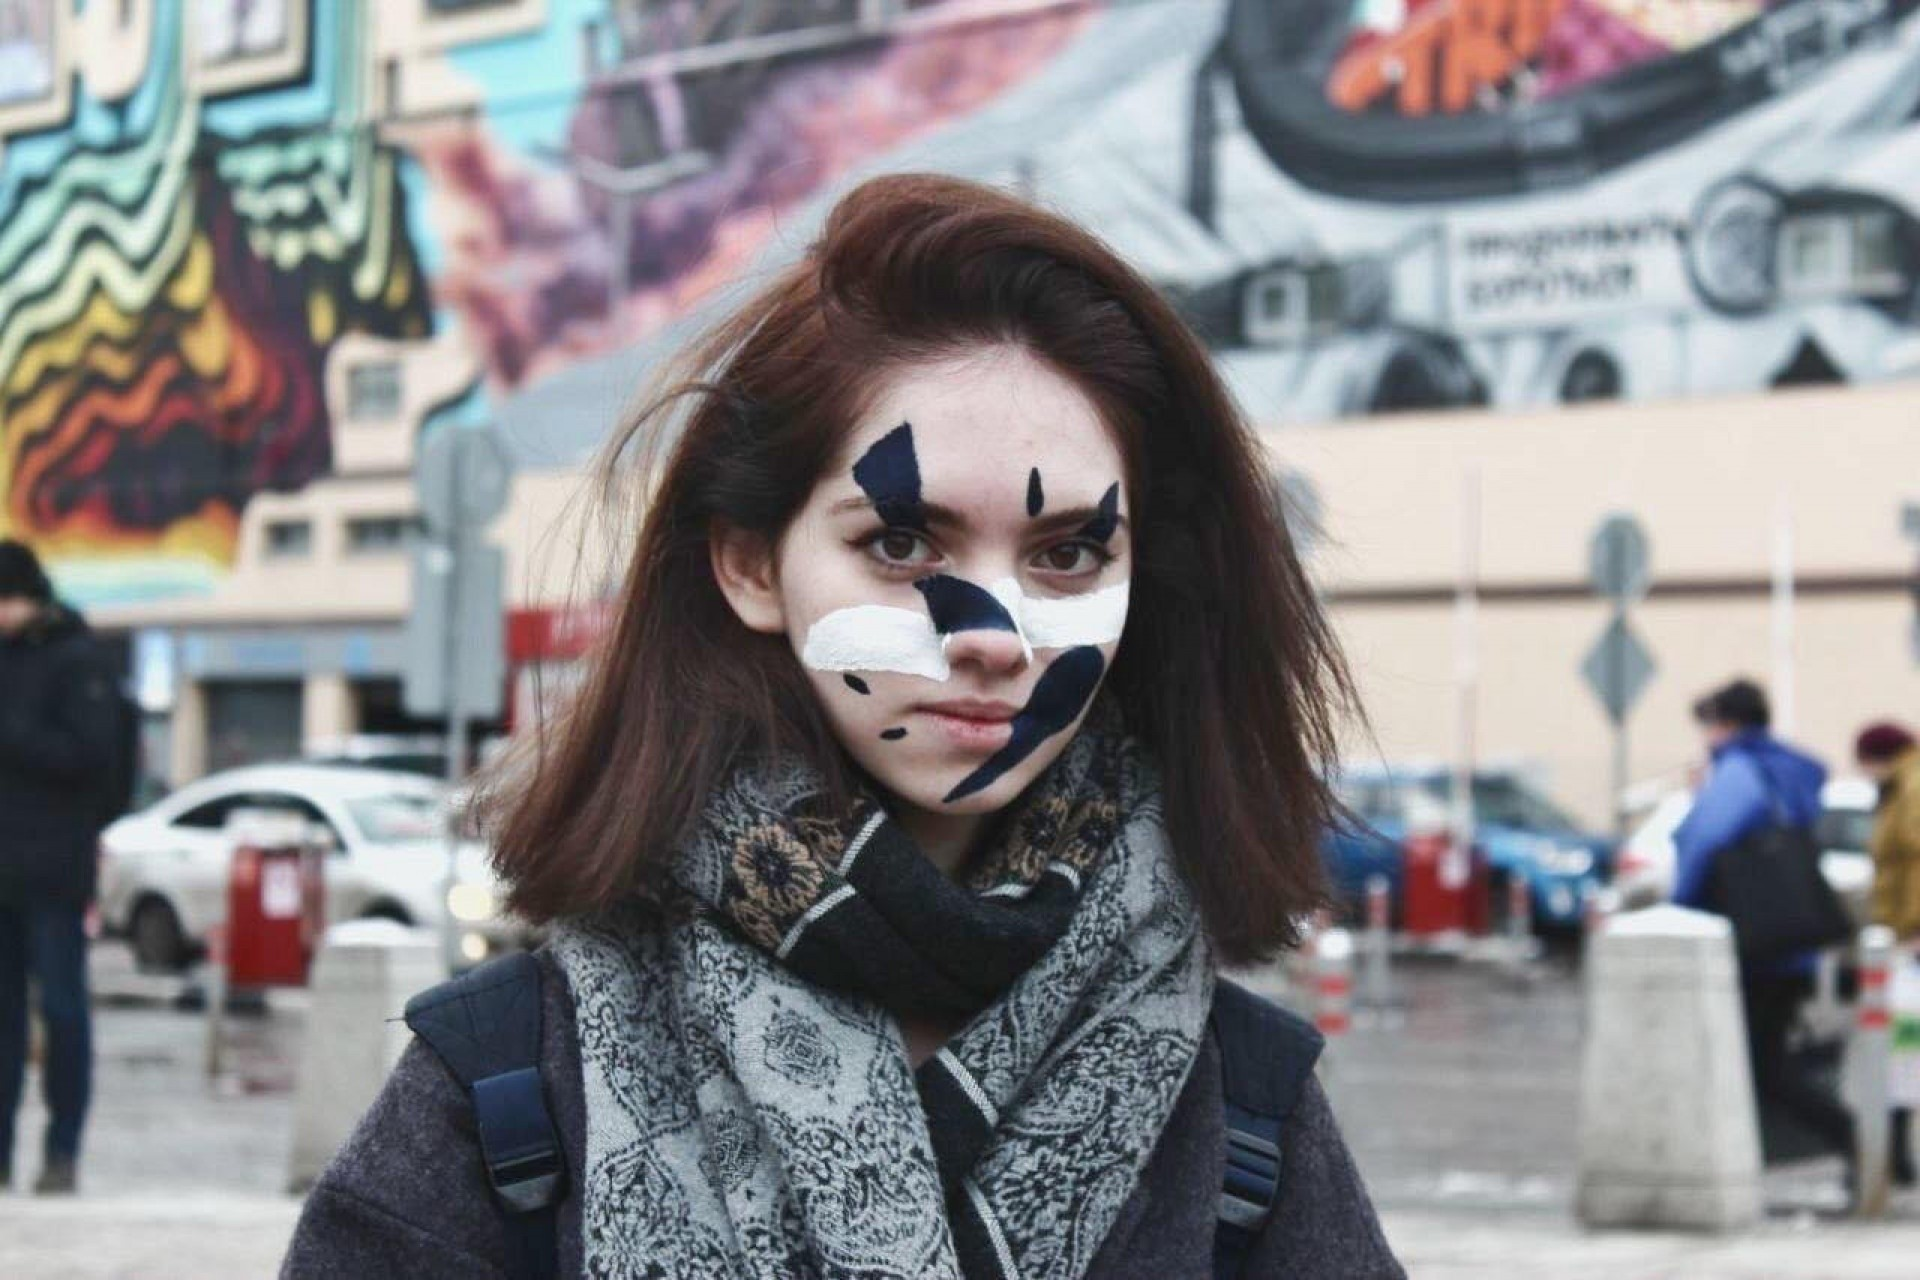face_no_mask: (698, 283, 1164, 829)
